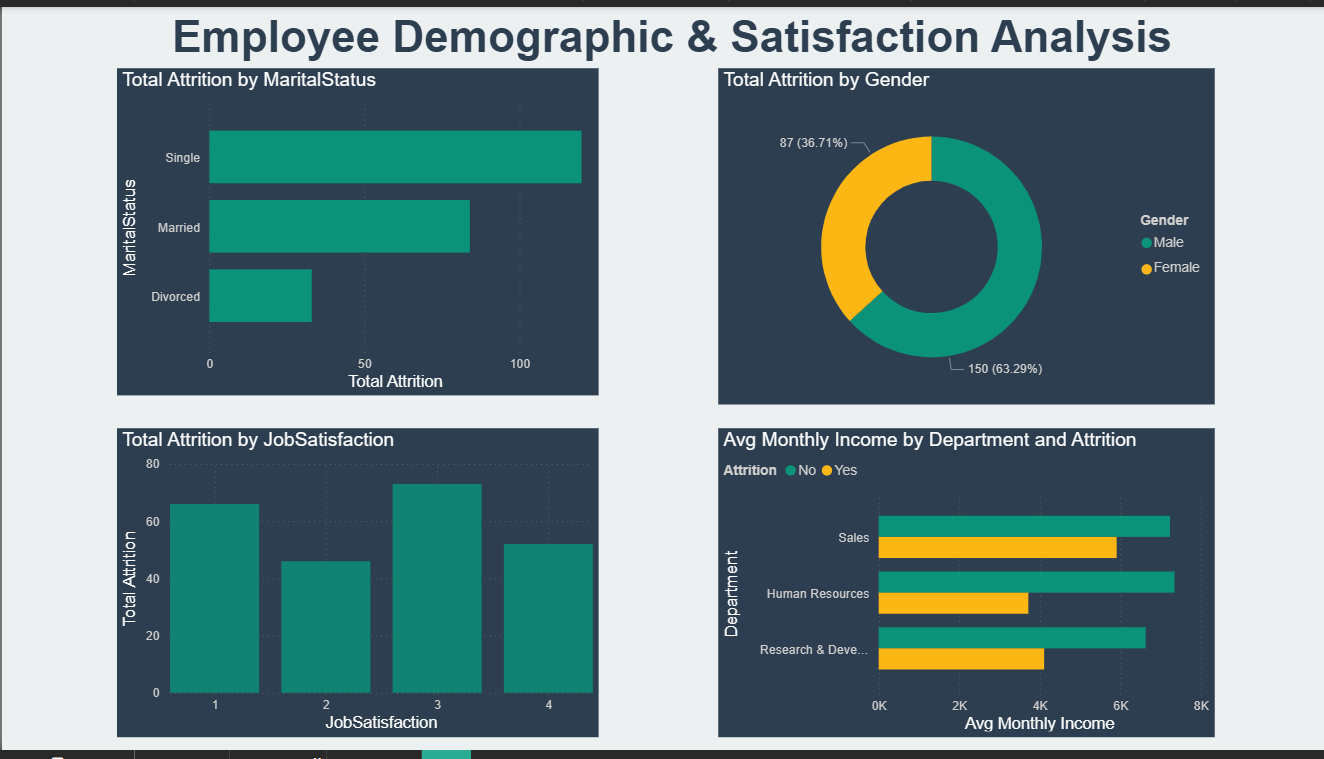

This screenshot's page, from the dashboard's own definition file:
{"tool":"powerbi","page":{"name":"Page 2","canvas":[1280,720],"ordinal":1},"visuals":[{"type":"textbox","box":[159.8,0,1025.3,64.2],"z":0},{"type":"clusteredBarChart","fields":{"Category":["Employee.MaritalStatus"],"Y":["Employee.Total Attrition"]},"box":[111.4,59.3,466,317.2],"z":1000},{"type":"donutChart","fields":{"Y":["Employee.Total Attrition"],"Category":["Employee.Gender"]},"box":[693.6,59.3,480.6,325.6],"z":2000},{"type":"clusteredColumnChart","fields":{"Category":["Employee.JobSatisfaction"],"Y":["Employee.Total Attrition"],"Series":["Employee.Attrition"]},"box":[111.4,407.9,466,299],"z":3000},{"type":"clusteredBarChart","fields":{"Category":["Employee.Department"],"Series":["Employee.Attrition"],"Y":["Employee.Avg Monthly Income"]},"box":[693.6,407.9,480.6,299],"z":4000}]}

Visuals, with their boxes in screenshot pixels (x1, y1, x2, y2), scaled from the page's 1280x720 canvas onto the 1324x759 screenshot:
textbox: locate(165, 0, 1226, 68)
clusteredBarChart - Employee.MaritalStatus x Employee.Total Attrition: locate(115, 63, 597, 397)
donutChart - Employee.Total Attrition x Employee.Gender: locate(717, 63, 1215, 406)
clusteredColumnChart - Employee.JobSatisfaction x Employee.Total Attrition: locate(115, 430, 597, 745)
clusteredBarChart - Employee.Department x Employee.Attrition: locate(717, 430, 1215, 745)
